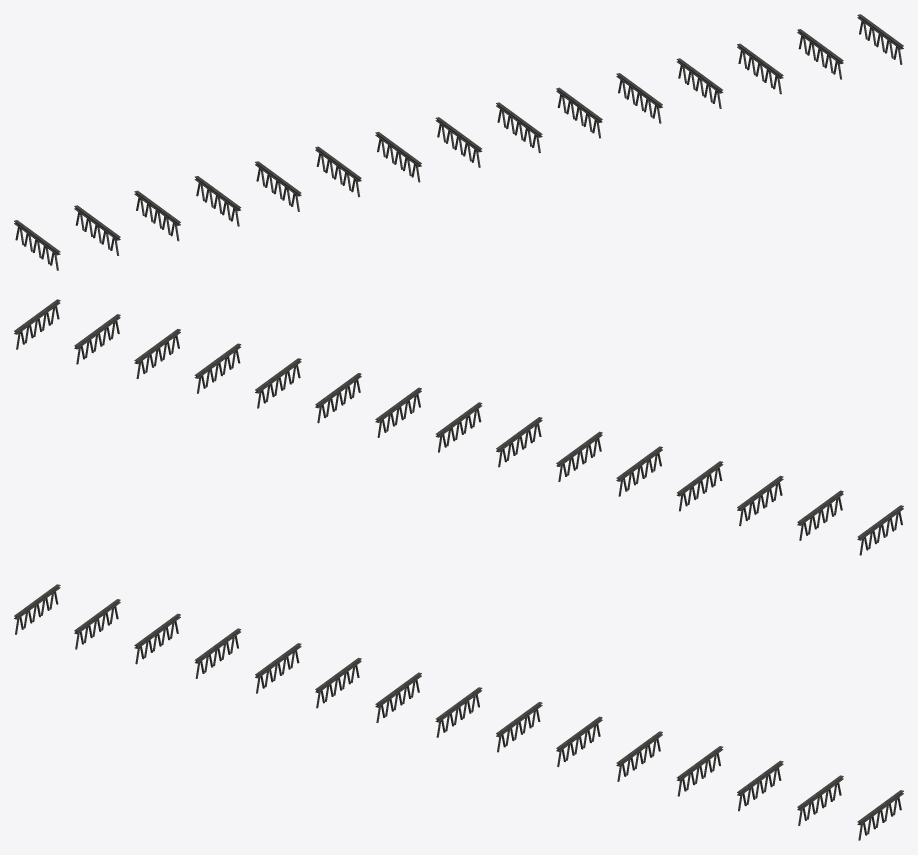
Rendered from Pipe Support.fbx.
The picture shows the model from 3 angles, top to bottom: view 1: azimuth 30°, elevation 25°; view 2: azimuth 150°, elevation 25°; view 3: azimuth 330°, elevation 25°; orthographic projection.
Visible parts, largest first — view 1: Cube.005; view 2: Cube.005; view 3: Cube.005.
Boxes of the visible parts, x1=… form: Cube.005: x1=14, y1=14, x2=903, y2=270; Cube.005: x1=14, y1=299, x2=903, y2=555; Cube.005: x1=14, y1=584, x2=903, y2=840.
Bounding box in the file's own units: 3197 × 67.9 × 282.
1 material, 1 textured.
